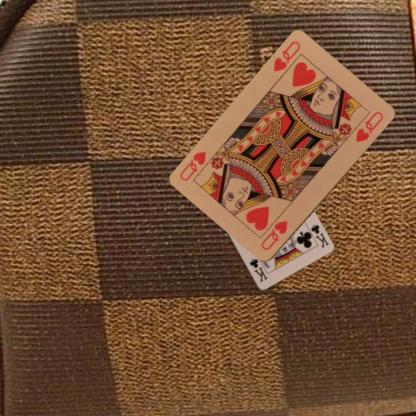Kc: (308, 222, 330, 249)
Qh: (270, 39, 302, 73), (258, 219, 289, 252)
